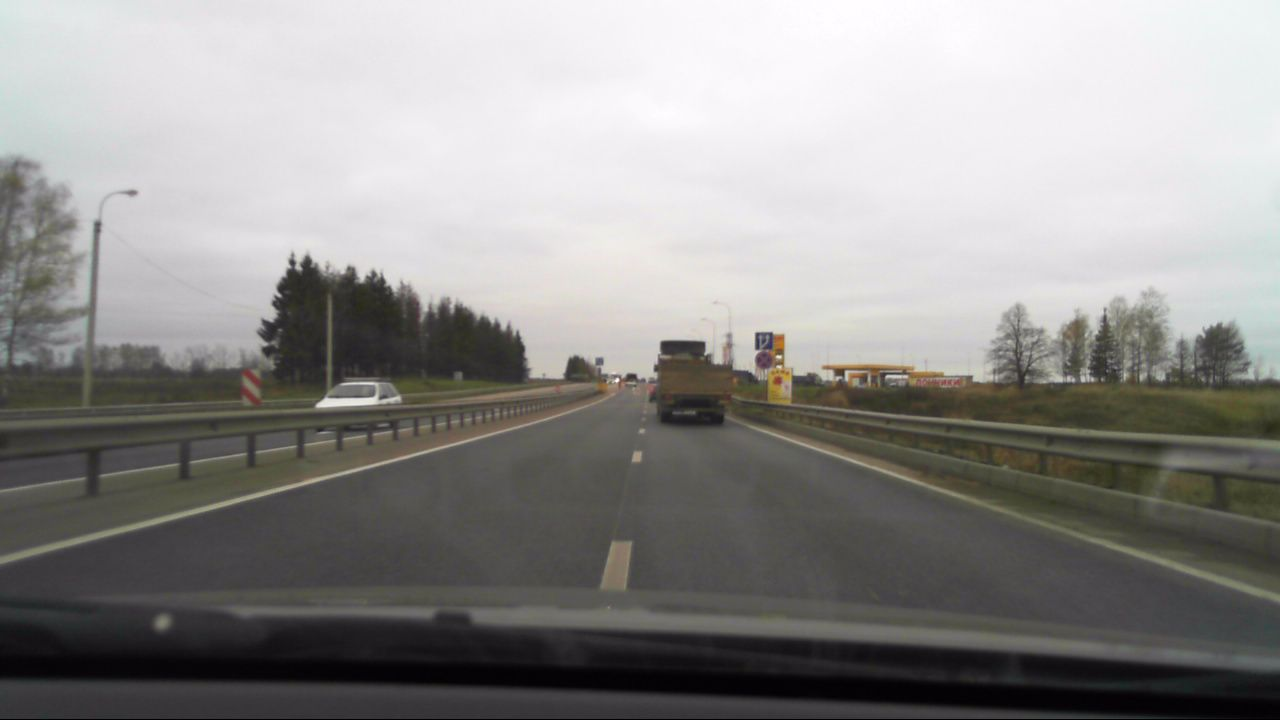No Parking: (754, 351, 774, 369)
